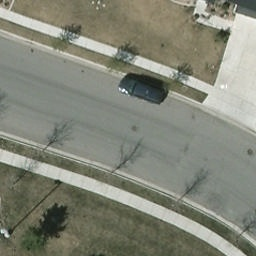car: (116, 76, 167, 107)
